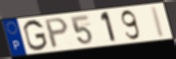1: (99, 11, 118, 44)
5: (69, 14, 95, 46)
9: (120, 9, 141, 41)
G: (22, 19, 49, 52)
I: (150, 6, 167, 39)
P: (44, 16, 70, 50)
